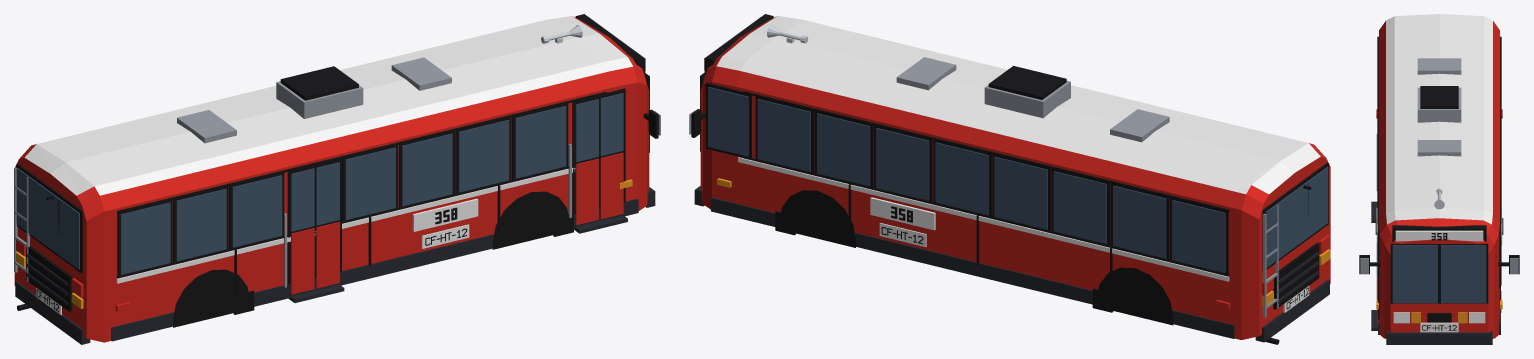
File: micro_roja_body.obj
The picture shows the model from 3 angles, left to right: view 1: azimuth 30°, elevation 25°; view 2: azimuth 150°, elevation 25°; view 3: azimuth 270°, elevation 25°; orthographic projection. The views are drawn at different scales.
Visible parts, largest first — view 1: micro_roja_body; view 2: micro_roja_body; view 3: micro_roja_body.
Boxes of the visible parts, bbox=[...] form: micro_roja_body: bbox=[14, 14, 660, 344]; micro_roja_body: bbox=[689, 14, 1330, 344]; micro_roja_body: bbox=[1359, 14, 1519, 344].
Size of the model in its own units: 10.8 by 3.2 by 3.32.
